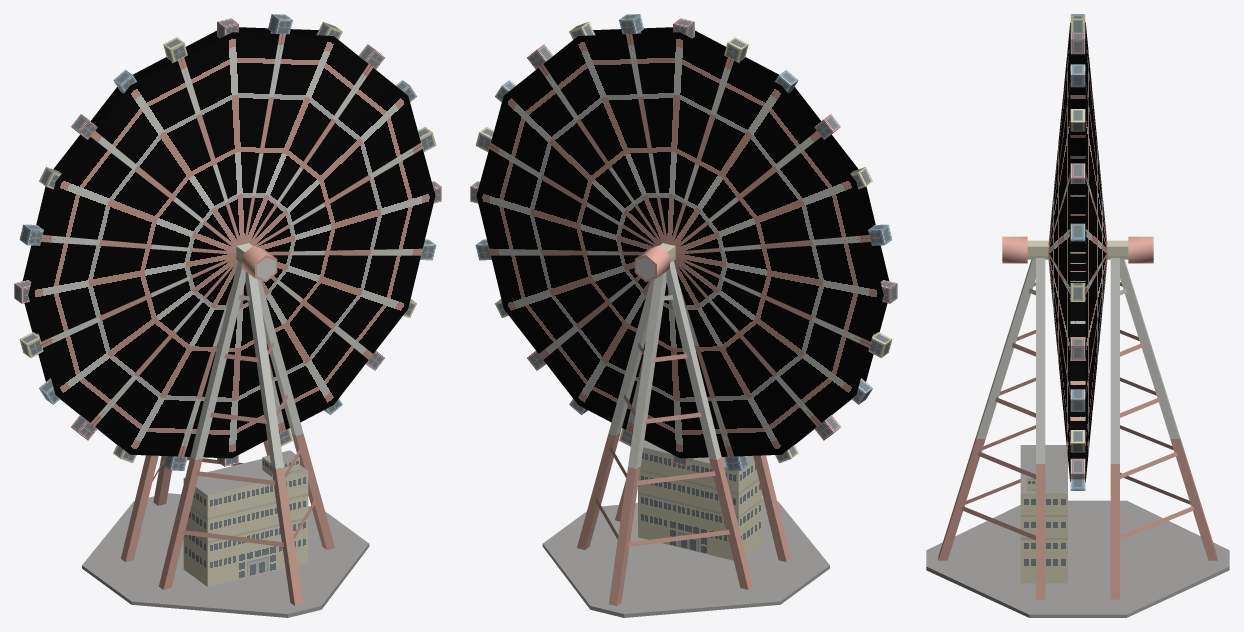
Rendered from 017a_Ferris_Wheel.glb.
The picture shows the model from 3 angles, left to right: view 1: azimuth 30°, elevation 25°; view 2: azimuth 150°, elevation 25°; view 3: azimuth 270°, elevation 25°; orthographic projection.
Visible parts, largest first — view 1: part_1, part_0; view 2: part_1, part_0; view 3: part_0, part_1.
Boxes of the visible parts, <box> form: part_1: <box>14,14,441,470</box>; part_0: <box>82,243,369,617</box>; part_1: <box>470,14,897,470</box>; part_0: <box>542,243,829,617</box>; part_0: <box>926,236,1229,617</box>; part_1: <box>1048,14,1107,490</box>.
Bounding box in the file's own units: 96.96 × 118 × 61.64.
Materials: 2 (2 with a texture image).
